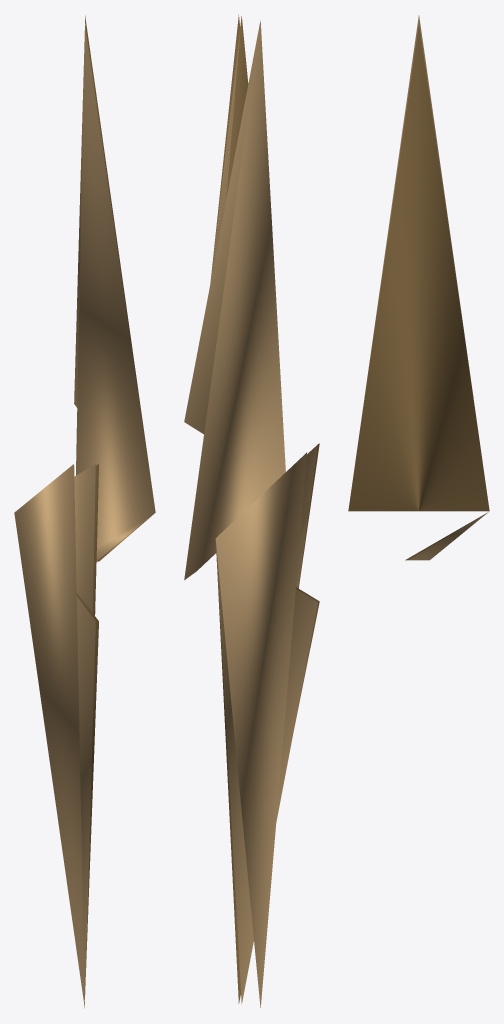
Rendered from equip_shield_wooden.glb.
3 views of the same model, side by side, from view 1: azimuth 90°, elevation 25°; view 2: azimuth 150°, elevation 25°; view 3: azimuth 270°, elevation 25° (orthographic).
Parts seen in each view (by area): view 1: equip_shield_wooden; view 2: equip_shield_wooden; view 3: equip_shield_wooden.
Boxes of the visible parts, x1=… form: equip_shield_wooden: x1=14, y1=15, x2=155, y2=1008; equip_shield_wooden: x1=184, y1=14, x2=319, y2=1007; equip_shield_wooden: x1=348, y1=15, x2=489, y2=560.
Size of the model in its own units: 0.26 by 2 by 0.26.
